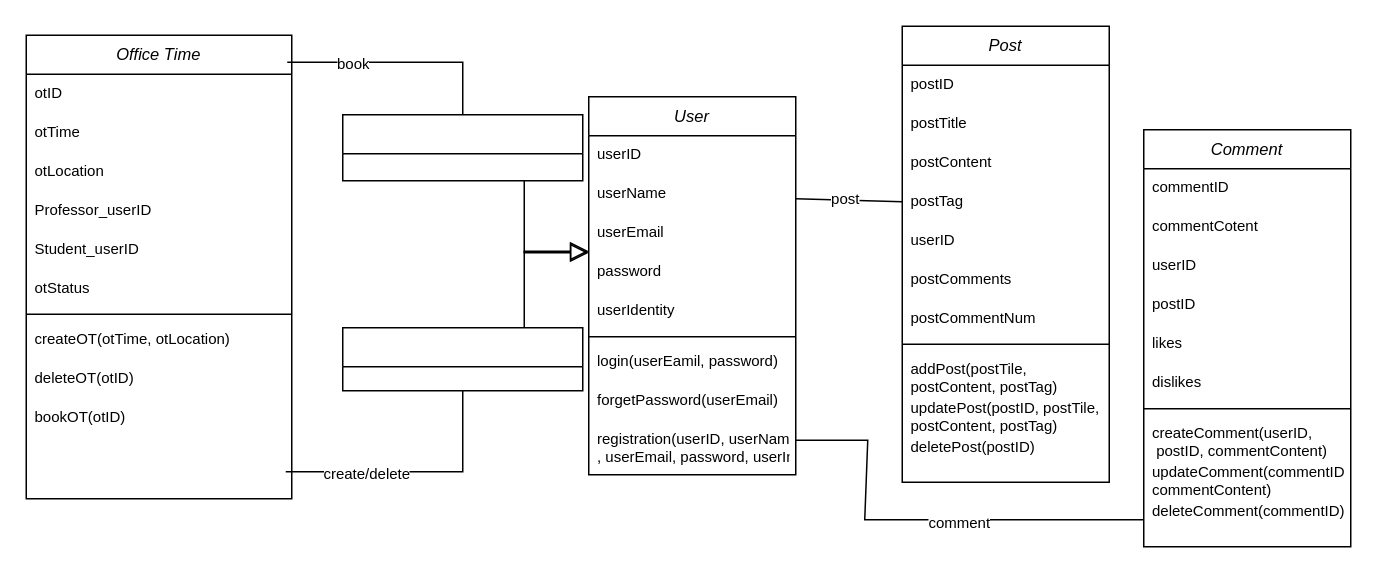
Image size: 1377x578. Some labels were removed from this diagram. The centre of each missing label's shape, as x and y in pixels:
Professor: point 462,358
Student: point 462,147
